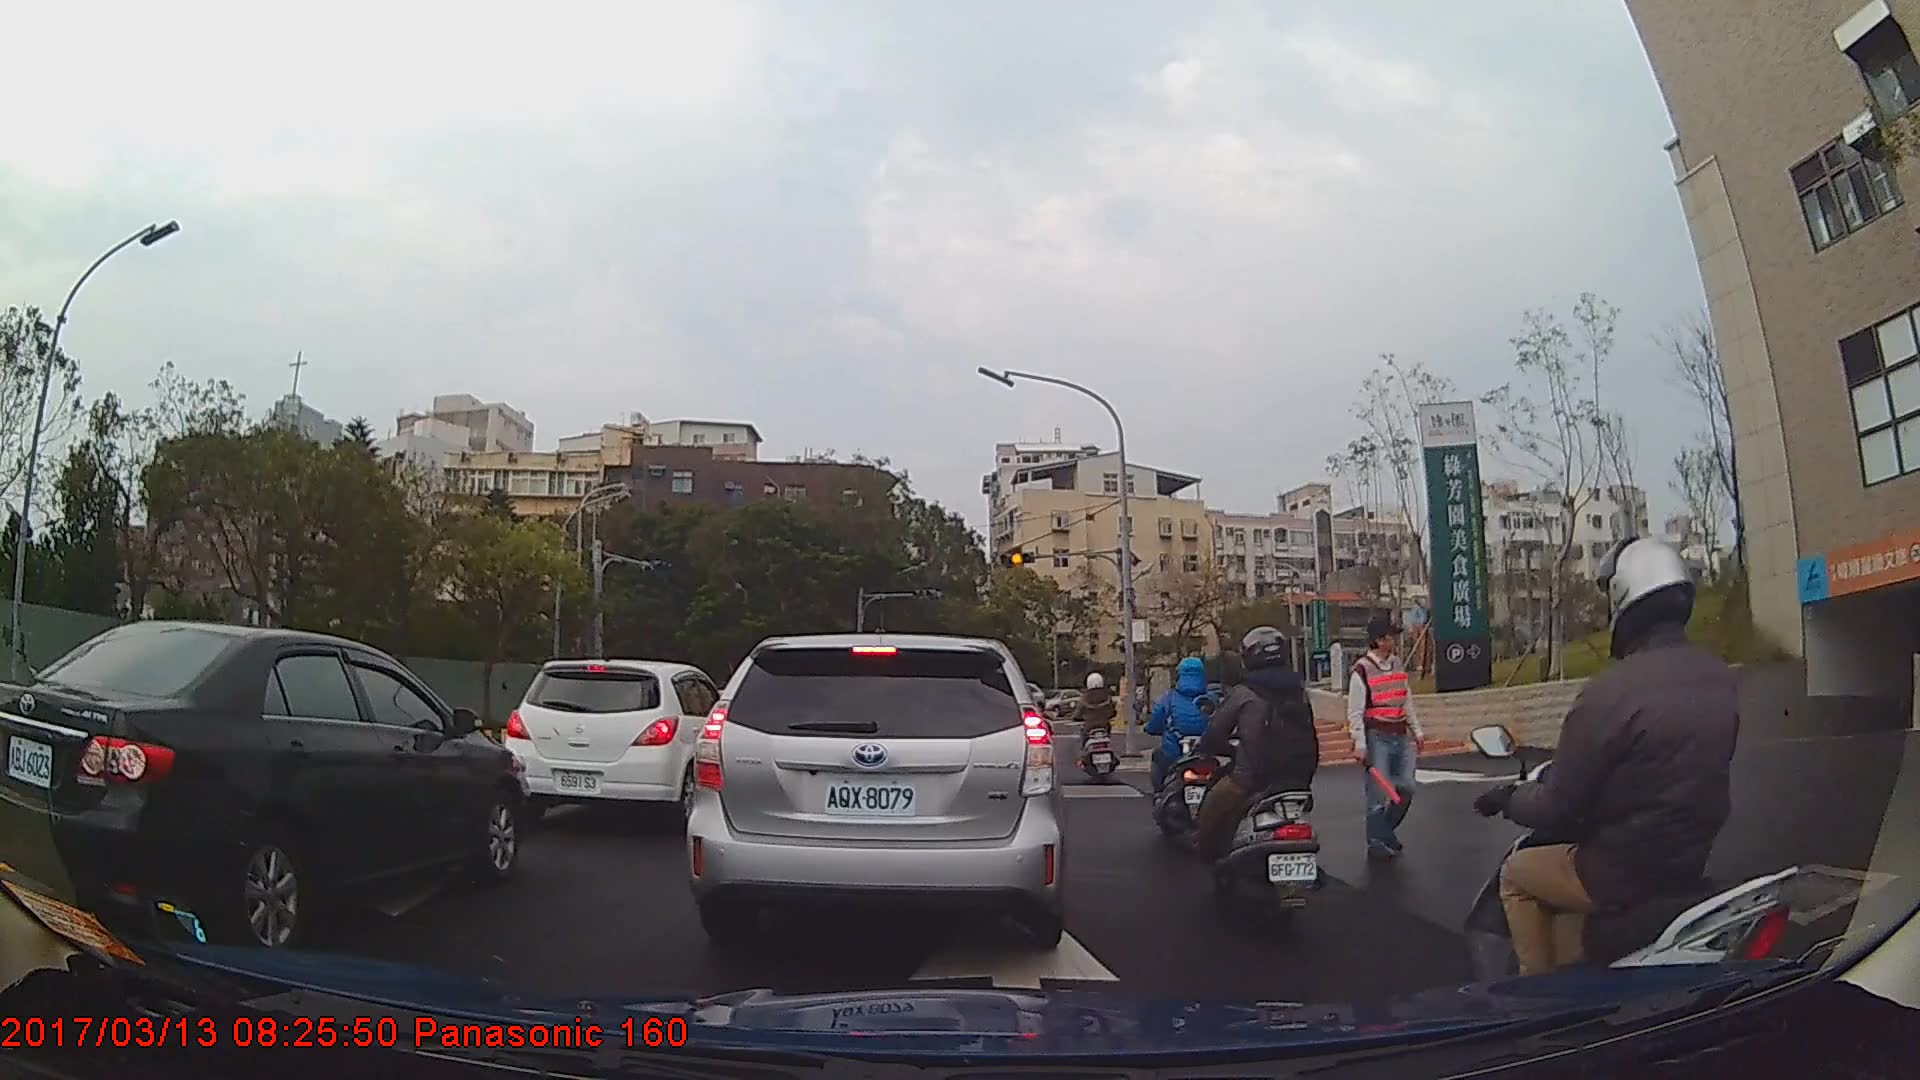pedestrian: (1348, 614, 1430, 867)
rider: (1451, 532, 1811, 1067), (1194, 622, 1327, 929), (1141, 655, 1219, 847), (1072, 670, 1121, 785)
vehicle: (2, 615, 530, 954), (684, 632, 1066, 954), (500, 657, 730, 826)
